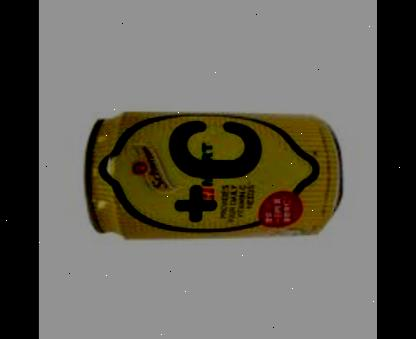Can: (85, 112, 341, 239)
